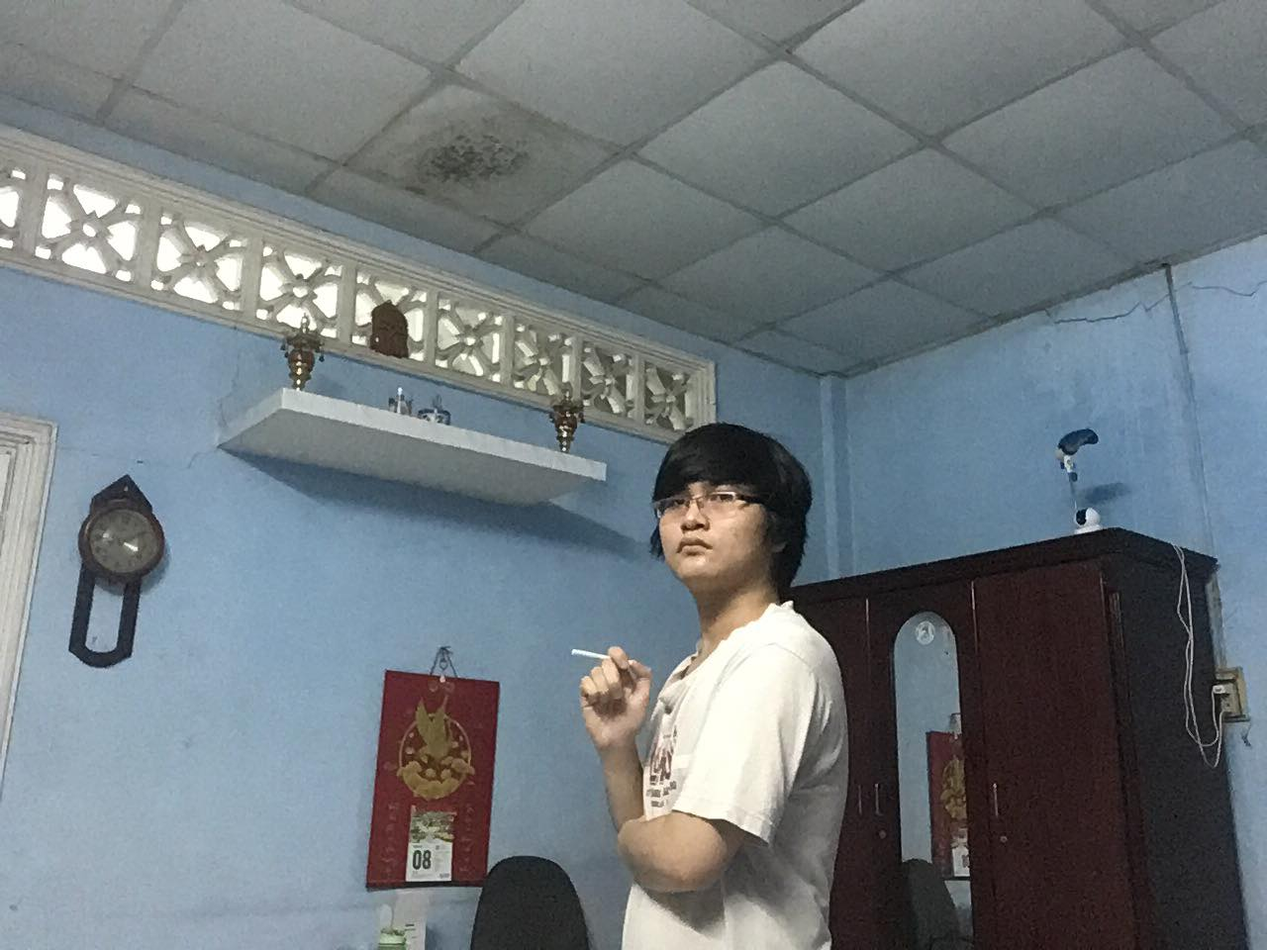cigarette: (567, 644, 610, 663)
person: (574, 424, 853, 947)
